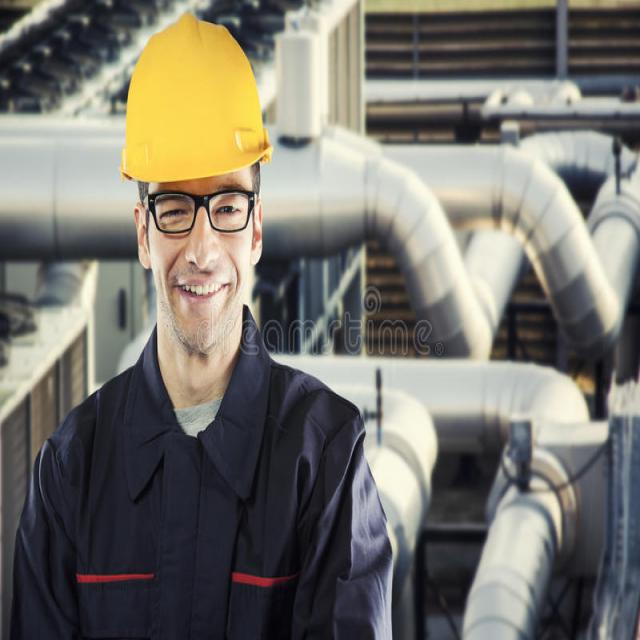Safety-Helmet: (120, 17, 275, 189)
